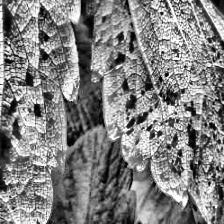Angular Leafspot: (83, 0, 224, 224), (0, 0, 82, 224)
